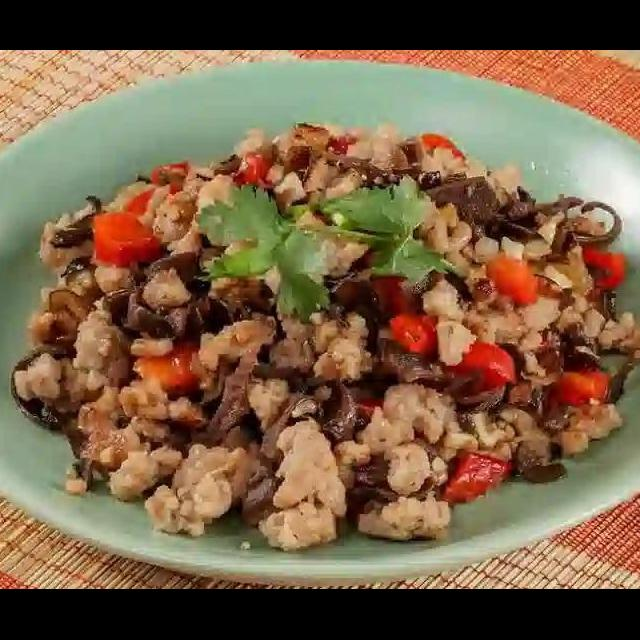thit bam: (0, 109, 640, 557)
